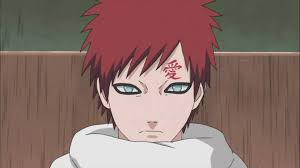gaara: (96, 40, 205, 142)
